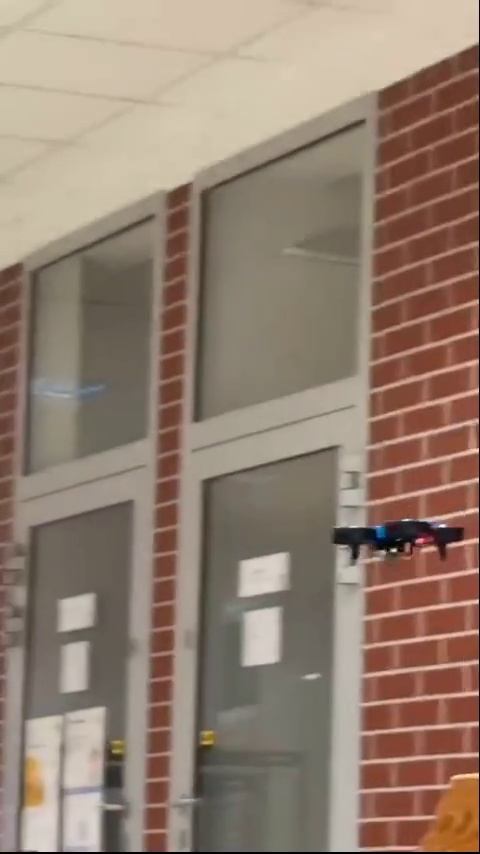drone: (337, 518, 469, 566)
